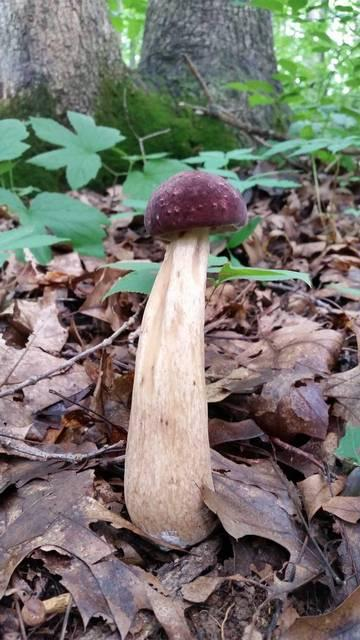Non-edible Mushroom: (122, 169, 248, 549)
